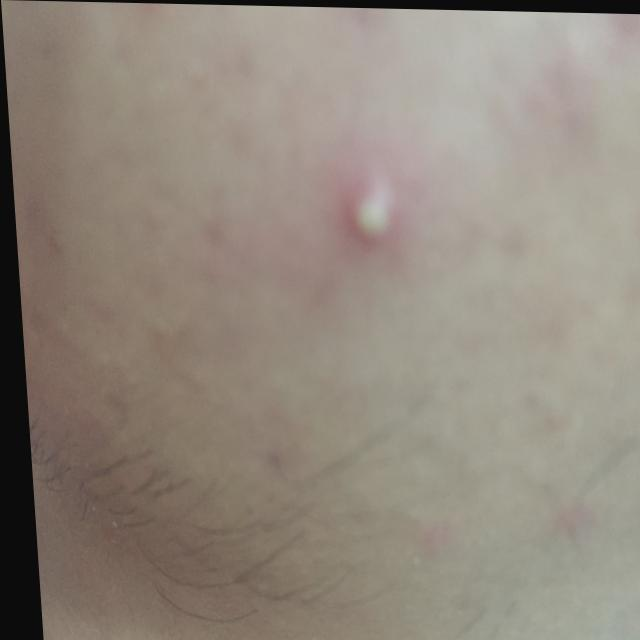blackheads: (323, 149, 410, 271)
